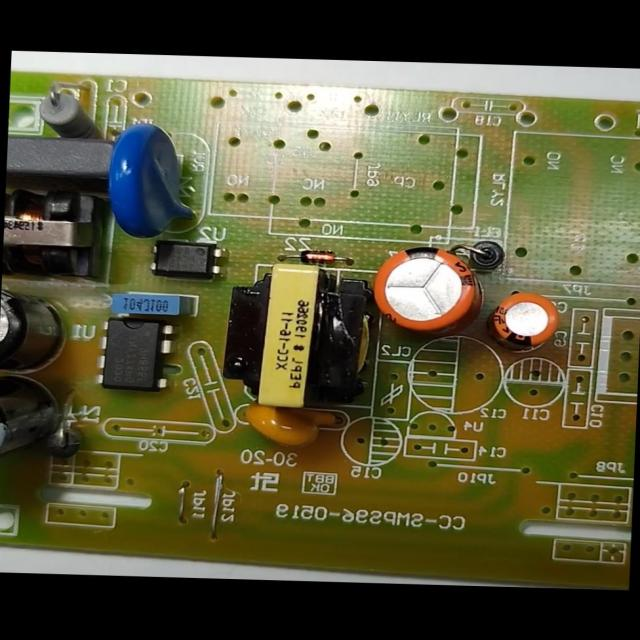Cap1: (369, 242, 477, 332)
Cap2: (487, 289, 563, 349)
Cap3: (0, 281, 66, 374)
Cap4: (0, 373, 73, 475)
MOSFET: (94, 314, 178, 395)
Mov: (98, 115, 190, 244)
Resistor: (34, 87, 108, 136)
Transformer: (222, 258, 366, 416), (2, 180, 107, 280)
